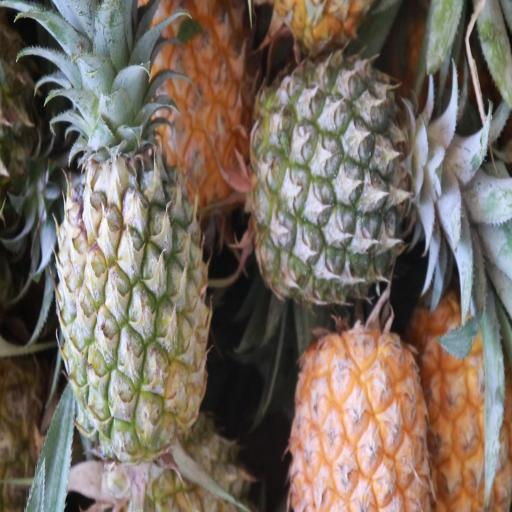Pineapple - v8 v1: (284, 332, 437, 512), (136, 0, 254, 232)
